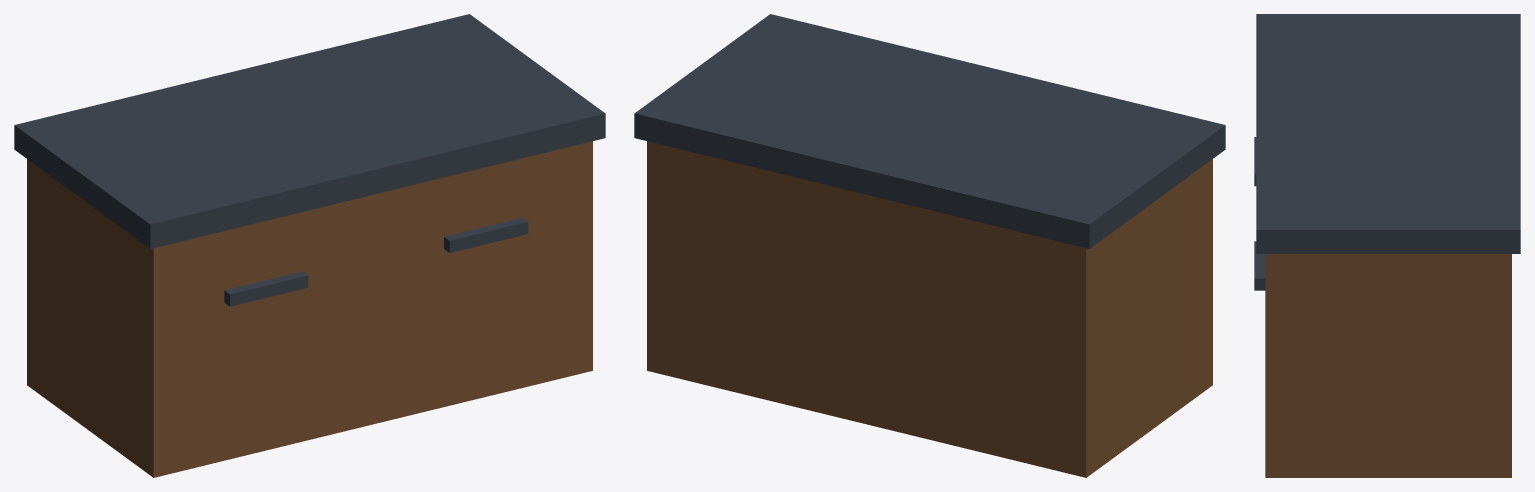
Rendered from Prop_Gabinete.obj.
3 views of the same model, side by side, from view 1: azimuth 30°, elevation 25°; view 2: azimuth 150°, elevation 25°; view 3: azimuth 270°, elevation 25° (orthographic). The views are drawn at different scales.
Visible parts, largest first — view 1: madera, metal; view 2: madera, metal; view 3: metal, madera.
Part boxes in pixels (x1,y1,x2,y2): madera: (27, 141, 592, 477); metal: (14, 14, 605, 306); madera: (647, 141, 1212, 477); metal: (634, 14, 1225, 248); metal: (1254, 14, 1520, 290); madera: (1265, 254, 1511, 477).
Size of the model in its own units: 0.58 by 0.315 by 0.3025.
